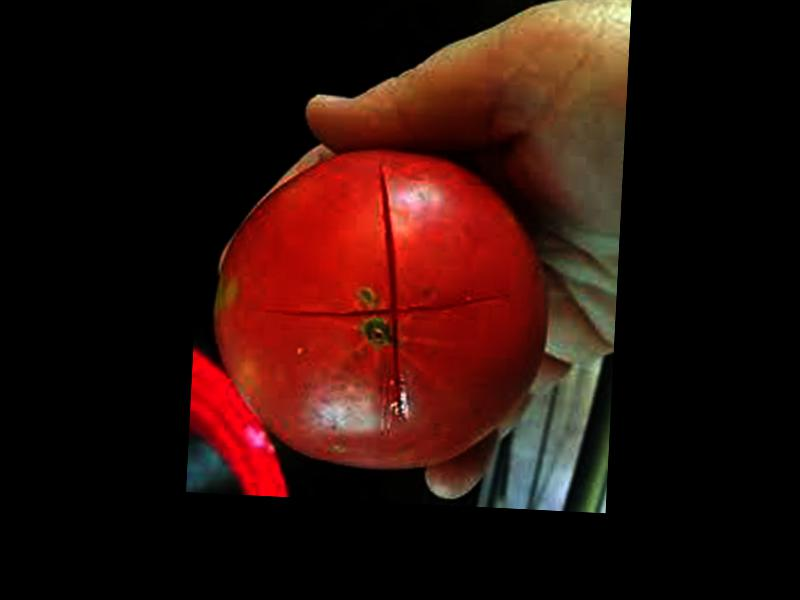Tomato: (207, 138, 556, 480)
